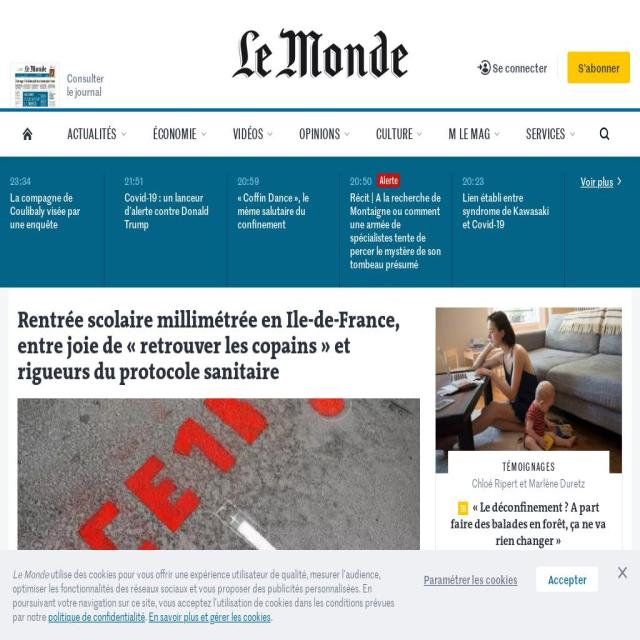button: (17, 307, 420, 640), (435, 328, 622, 640), (452, 174, 566, 288), (115, 174, 228, 288), (227, 174, 340, 288), (340, 174, 452, 288), (0, 174, 105, 288), (228, 29, 410, 80), (55, 110, 141, 158), (140, 110, 220, 158), (436, 110, 514, 158), (287, 110, 364, 158), (514, 110, 590, 158), (364, 110, 437, 158), (220, 110, 288, 158), (478, 50, 568, 84), (412, 566, 528, 592), (10, 62, 60, 108), (580, 174, 624, 224), (568, 51, 630, 83), (10, 110, 45, 158), (536, 566, 598, 592), (599, 125, 610, 143), (618, 567, 628, 579)
heading: (18, 305, 400, 387)
image: (18, 398, 420, 640), (435, 307, 622, 473), (228, 29, 410, 80), (376, 174, 406, 188), (20, 124, 35, 144), (614, 174, 624, 188)
link: (447, 551, 609, 640), (451, 498, 607, 549), (448, 459, 610, 473), (448, 476, 610, 489), (148, 608, 270, 624), (48, 608, 145, 624)
text: (12, 566, 394, 624), (349, 191, 442, 271), (124, 191, 217, 231), (462, 191, 555, 231), (237, 191, 329, 231), (10, 191, 94, 231), (581, 174, 613, 224), (492, 58, 547, 76), (66, 70, 104, 86), (66, 83, 102, 99), (12, 566, 48, 582), (237, 174, 260, 188), (478, 56, 492, 78), (350, 174, 372, 188), (462, 174, 484, 188), (10, 174, 31, 188), (125, 174, 144, 188), (458, 502, 473, 516), (145, 608, 149, 624), (270, 608, 272, 624)
